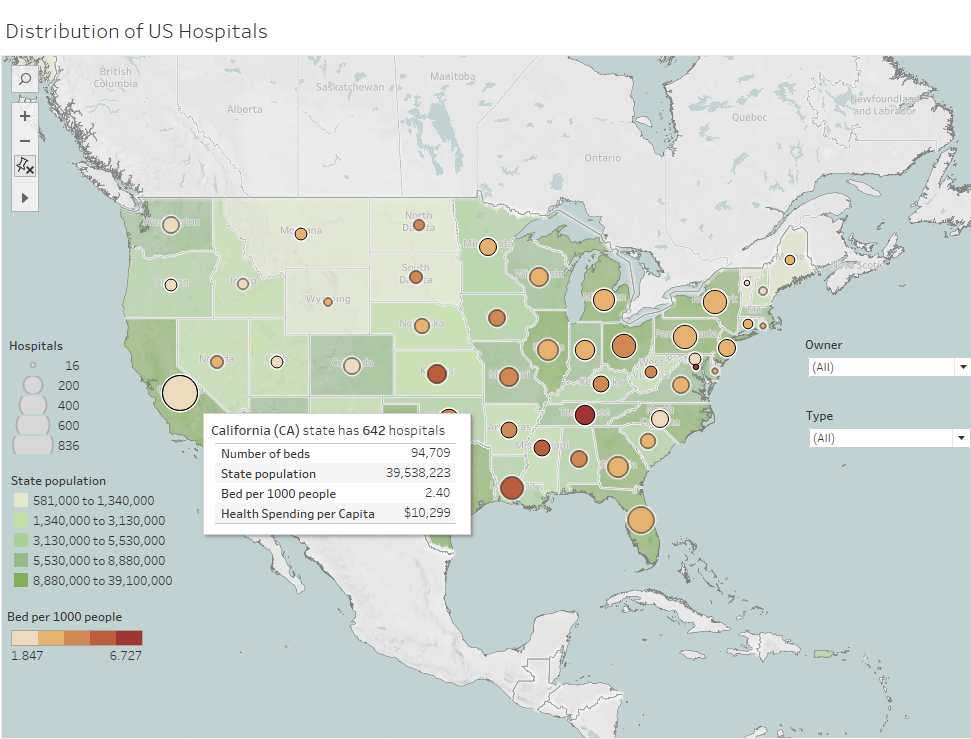

The dashboard page shown, as its layout file describes it:
{"tool":"tableau","page":{"name":"Final - Hospital","canvas":[1000,800],"ordinal":0},"visuals":[{"type":"worksheet","title":"Distribution of US Hospitals","mark":"Automatic","box":[8,8,984,784]},{"type":"filter","title":"Distribution of US Hospitals","param":"[federated.0o9a3630y681zw1702iwh0tmi8as].[none:OWNER:nk]","box":[816,336,171,78]},{"type":"legend","title":"Distribution of US Hospitals","param":"[federated.0o9a3630y681zw1702iwh0tmi8as].[usr:Calculation_111675215406559234:qk]","box":[20,337,121,128]},{"type":"filter","title":"Distribution of US Hospitals","param":"[federated.0o9a3630y681zw1702iwh0tmi8as].[none:TYPE:nk]","box":[817,407,168,58]},{"type":"legend","title":"Distribution of US Hospitals","box":[22,472,166,133]},{"type":"legend","title":"Distribution of US Hospitals","param":"[federated.0o9a3630y681zw1702iwh0tmi8as].[usr:Calculation_87609105536208896:qk]","box":[18,608,140,76]}]}

Visuals, with their boxes on the page's 1000x800 design canvas (x1, y1, x2, y2). These are canvas units, not pixel positions in the 971x739 screenshot, which may show the page scaled, cropped or inside an application window:
"Distribution of US Hospitals" worksheet: 8:8:992:792
"Distribution of US Hospitals" filter: 816:336:987:414
"Distribution of US Hospitals" legend: 20:337:141:465
"Distribution of US Hospitals" filter: 817:407:985:465
"Distribution of US Hospitals" legend: 22:472:188:605
"Distribution of US Hospitals" legend: 18:608:158:684
